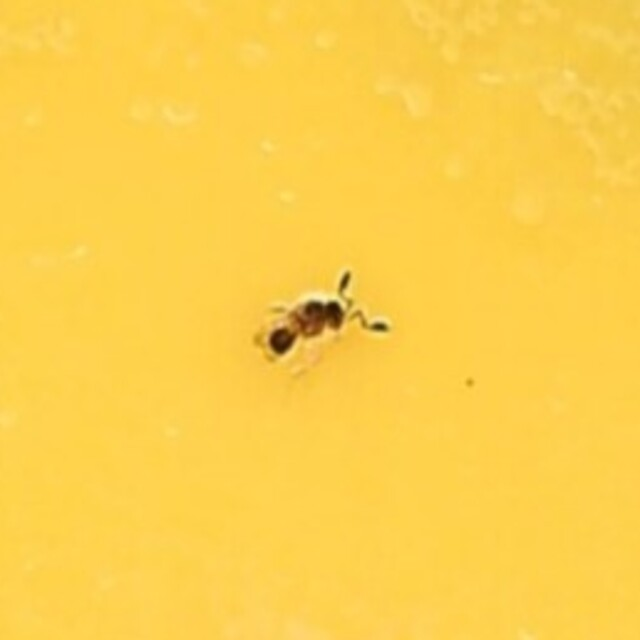Hymenoptera: (248, 270, 392, 370)
